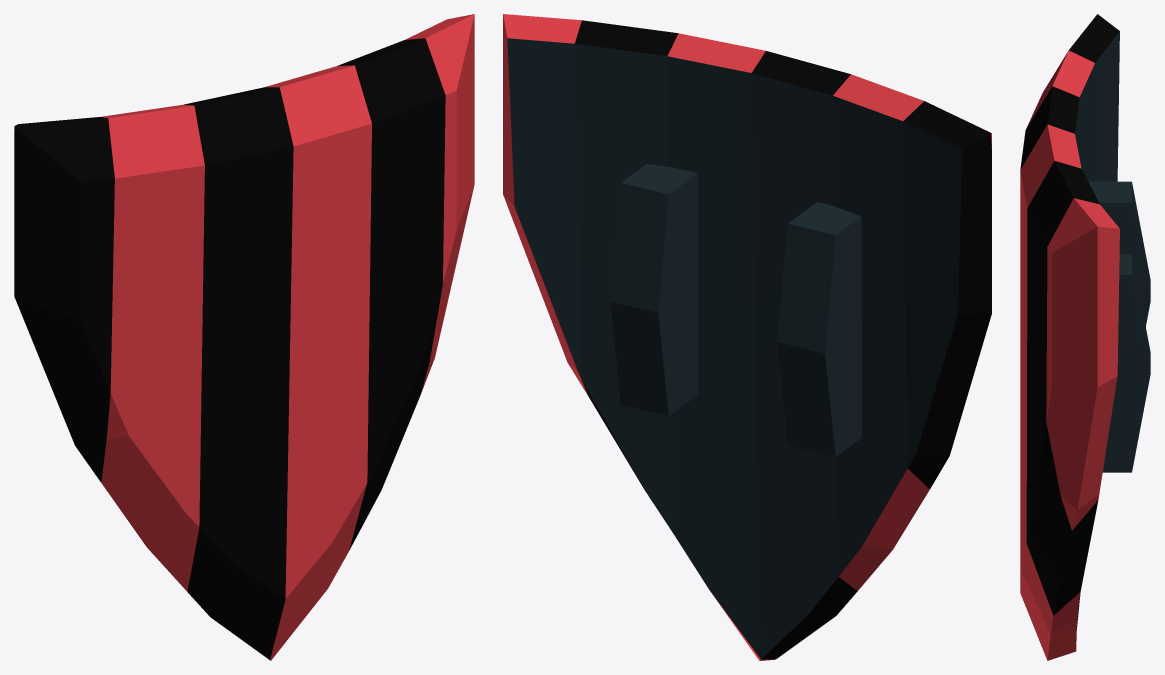
Rendered from Shield 01.fbx.
The picture shows the model from 3 angles, left to right: view 1: azimuth 30°, elevation 25°; view 2: azimuth 150°, elevation 25°; view 3: azimuth 270°, elevation 25°; orthographic projection. The views are drawn at different scales.
Parts seen in each view (by area): view 1: Shiled 01; view 2: Shiled 01; view 3: Shiled 01.
Part boxes in pixels (box(x1,y1,x2,y2)): Shiled 01: box(14, 14, 474, 660); Shiled 01: box(503, 14, 991, 660); Shiled 01: box(1020, 14, 1150, 660).
Size of the model in its own units: 82.17 by 97.46 by 21.31.
